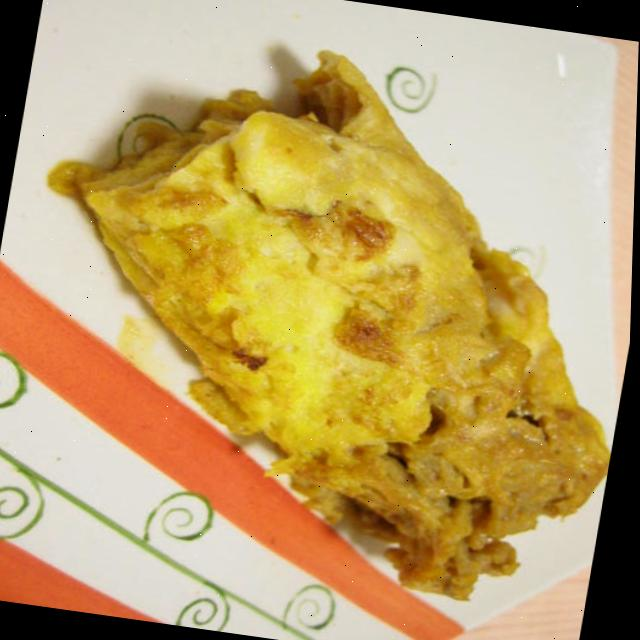鸡蛋料理: (0, 2, 640, 625)
